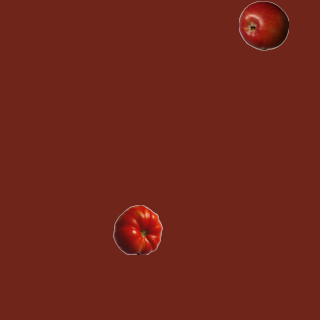Apple Braeburn: (238, 0, 288, 50)
Tomato 3: (112, 204, 162, 254)
